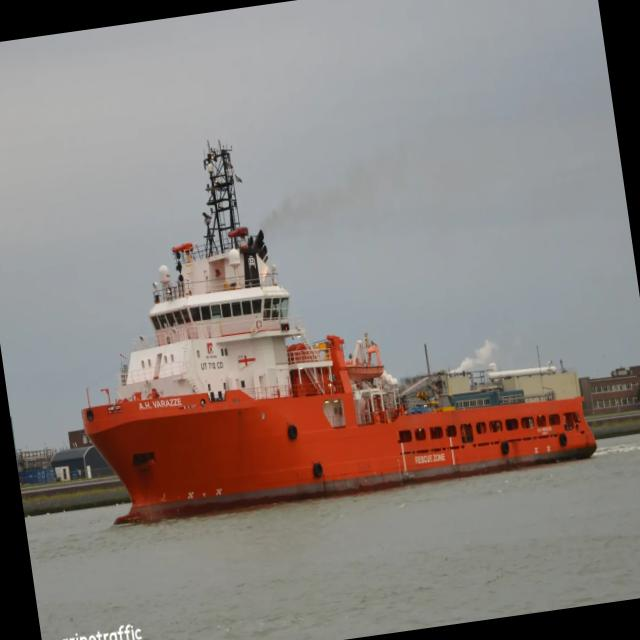Offshore: (82, 145, 596, 523)
